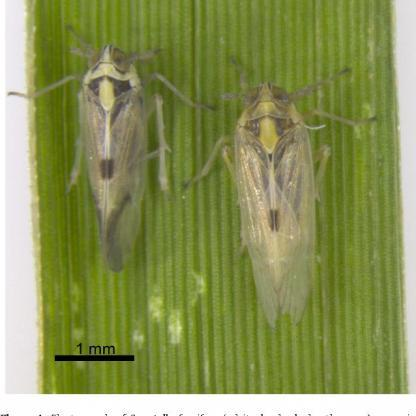brown-planthopper: (63, 41, 171, 271), (231, 80, 324, 325)
